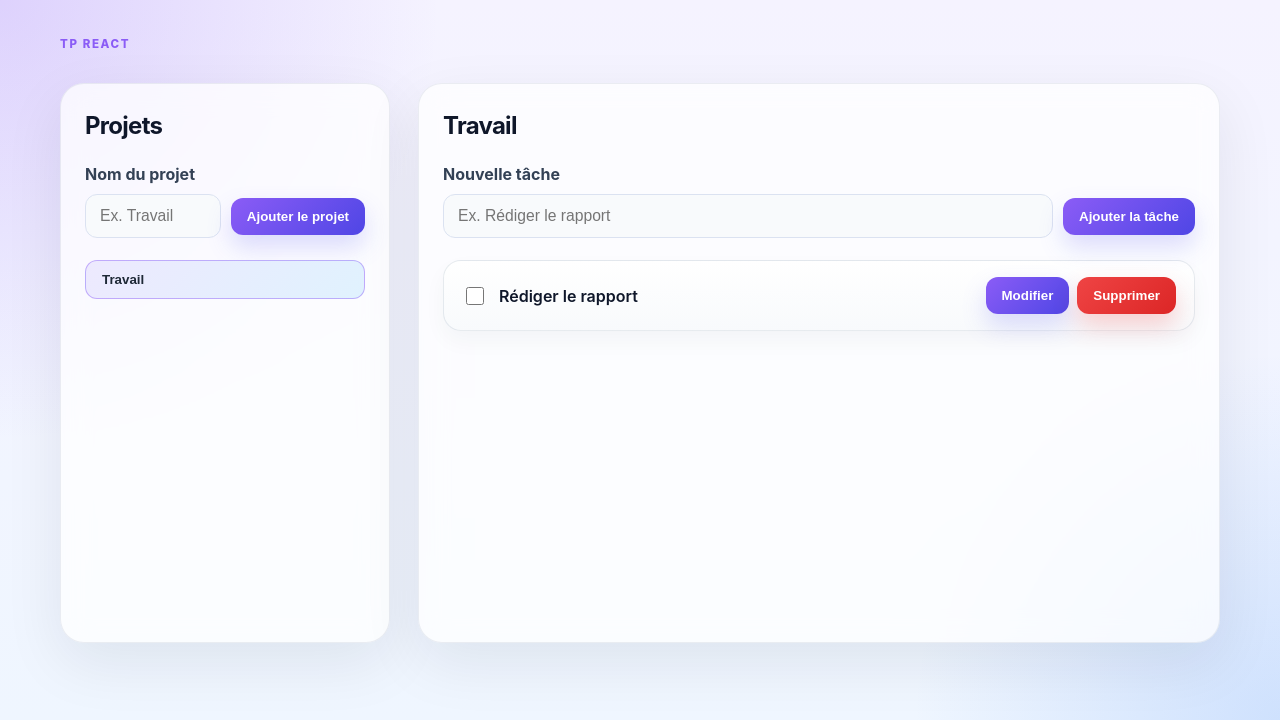
Scenario: ToDo app › allows editing a task
Step 1. Type "Maison" into the field labelled "Nom du projet" → [153, 216], box [85,194,221,238]
Step 2. Click the button "Ajouter le projet" → [298, 216], box [231,198,365,235]
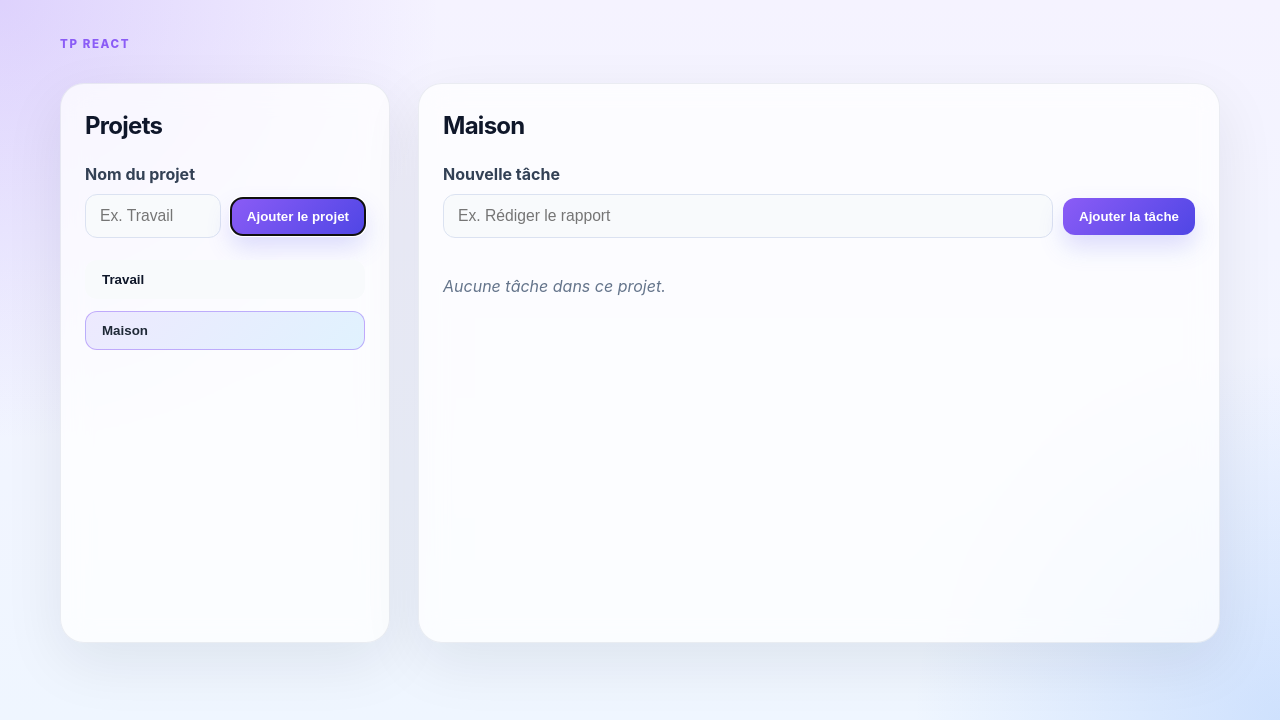
Step 3. Type "Faire les courses" into the field labelled "Nouvelle tâche" → [748, 216], box [443,194,1053,238]
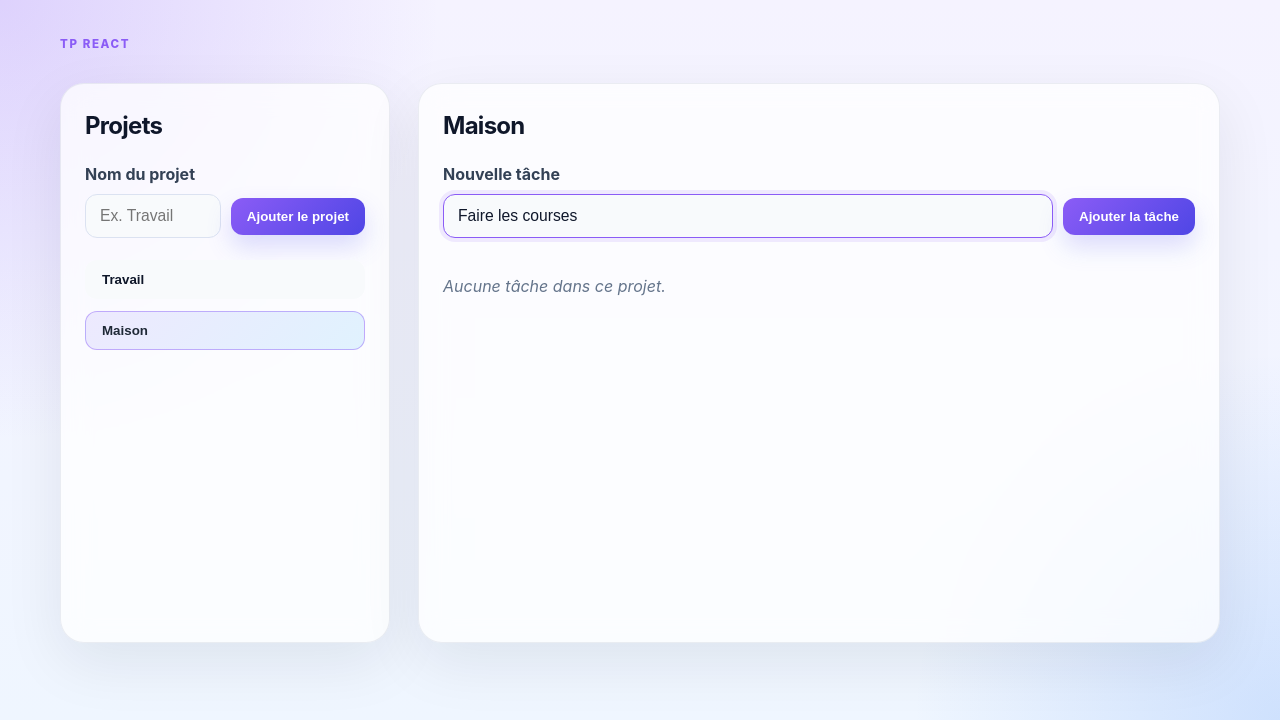
Step 4. Click the button "Ajouter la tâche" → [1129, 216], box [1063,198,1195,235]
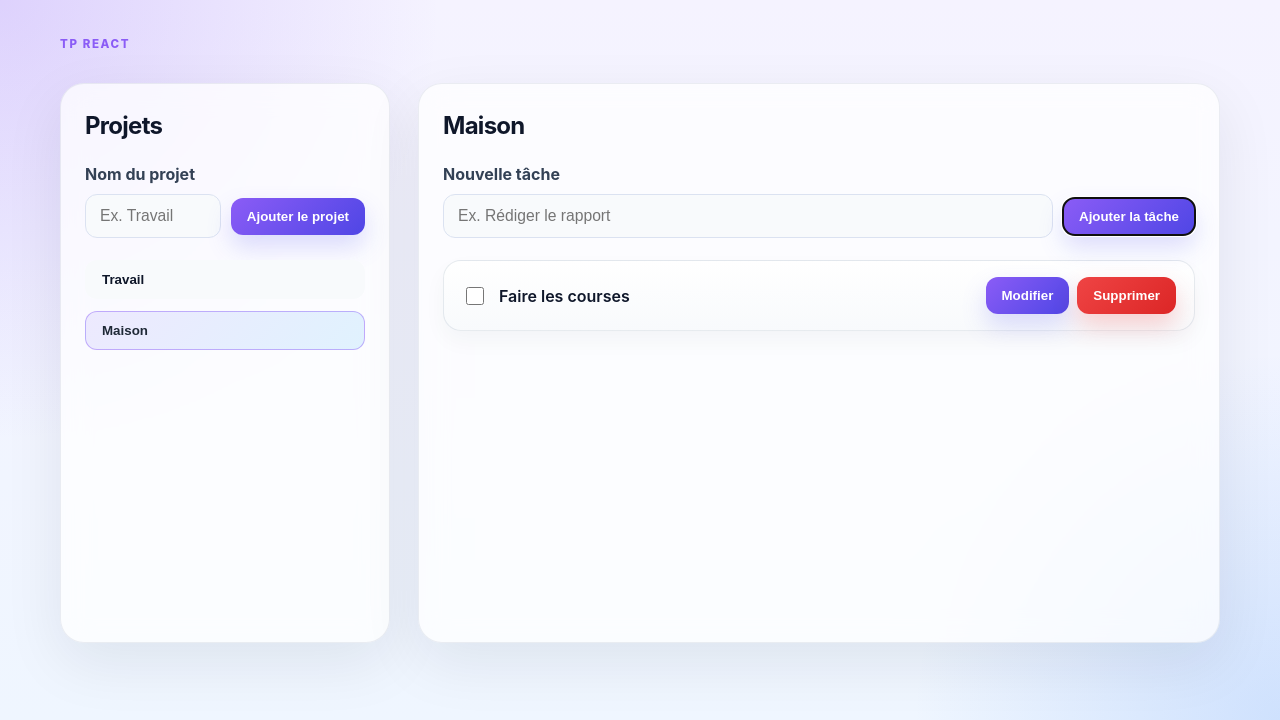
Step 5. Click the button "Modifier" → [1027, 296], box [986,277,1069,314]
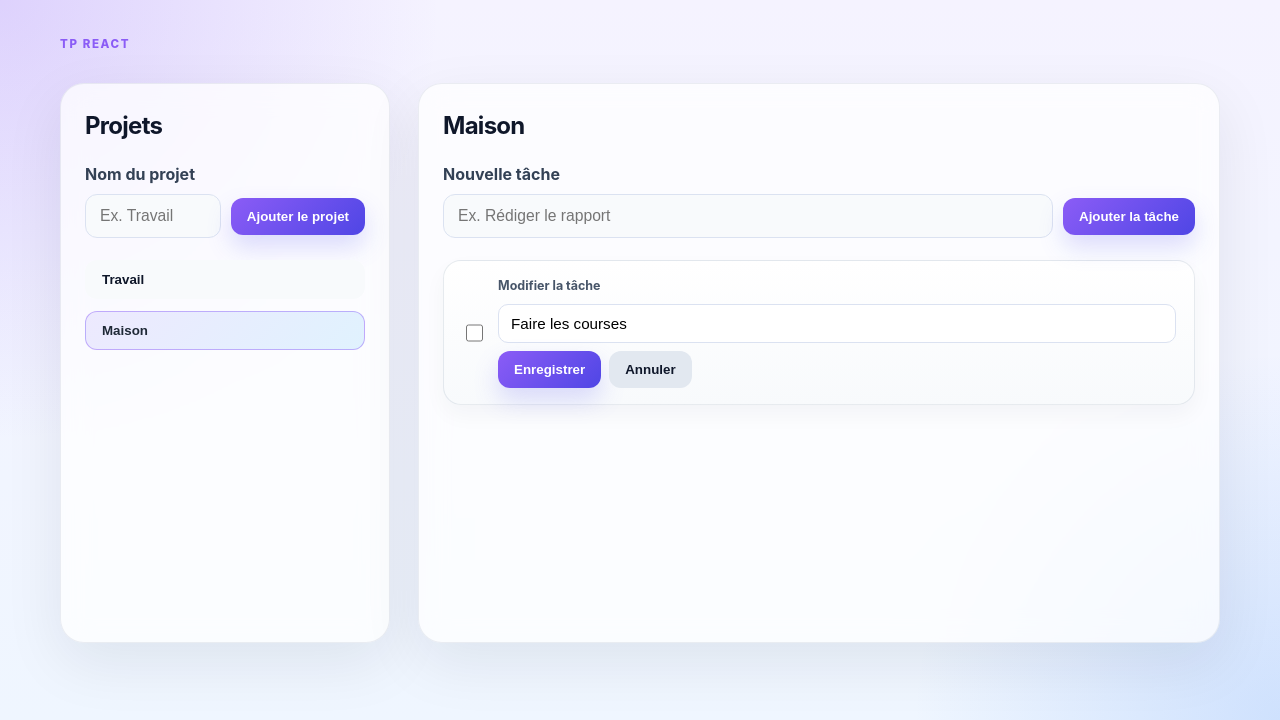
Step 6. Replace the text in the field labelled "Modifier la tâche" with "Faire les courses pour la semaine" → [837, 324], box [498,304,1176,343]
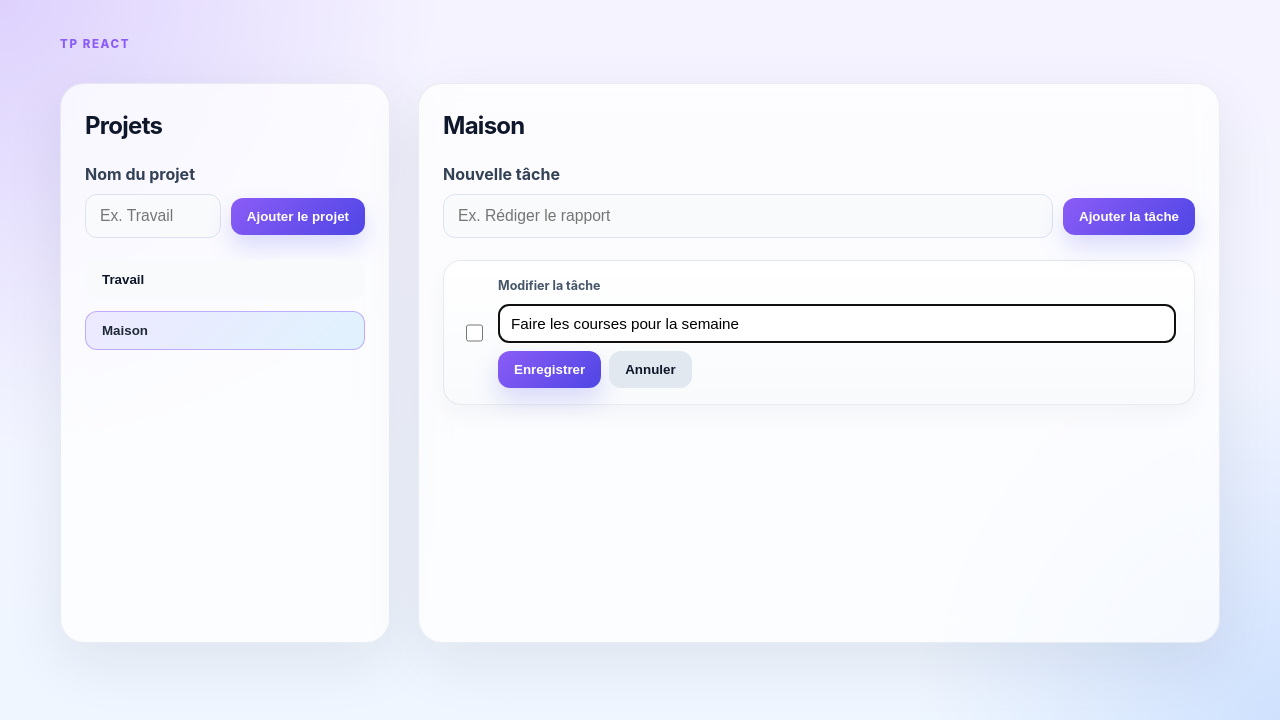
Step 7. Click the button "Enregistrer" → [550, 370], box [498,351,601,388]
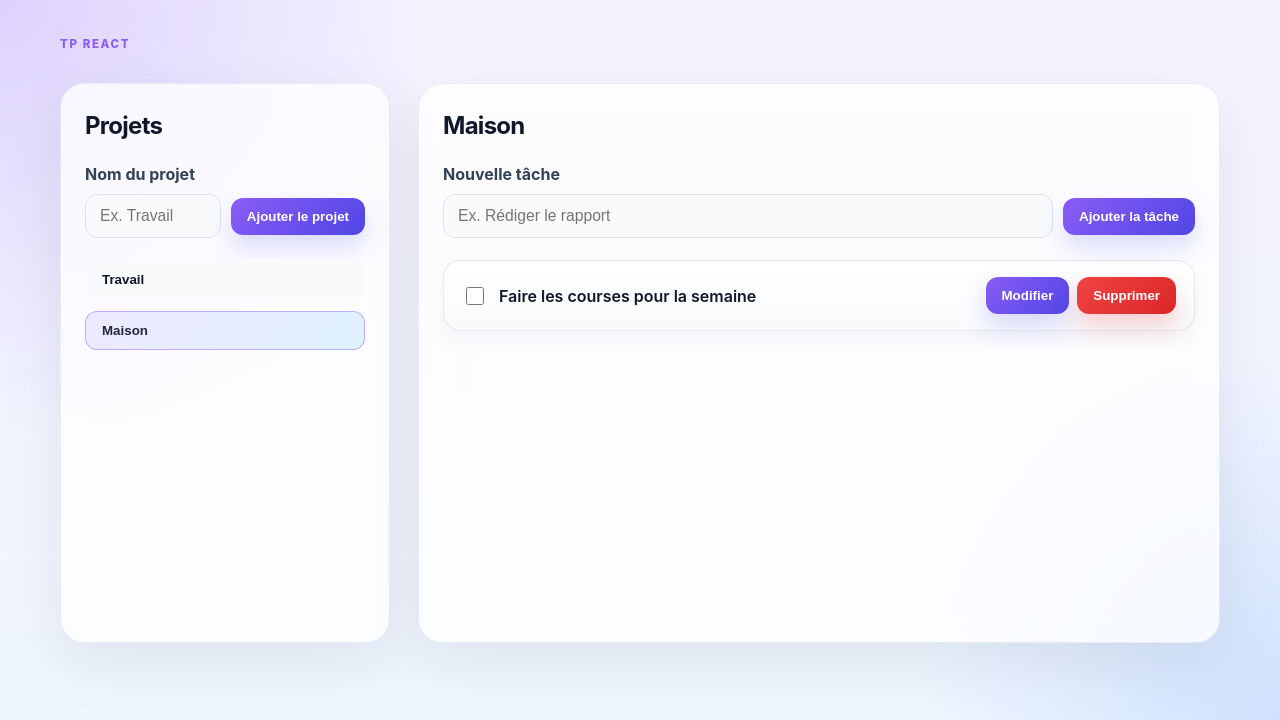
expect the text "Faire les courses pour la semaine" is shown: met, box [499,284,756,308]
